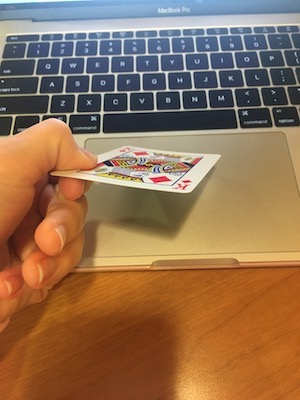KingOfDiamonds: (49, 140, 225, 204)
